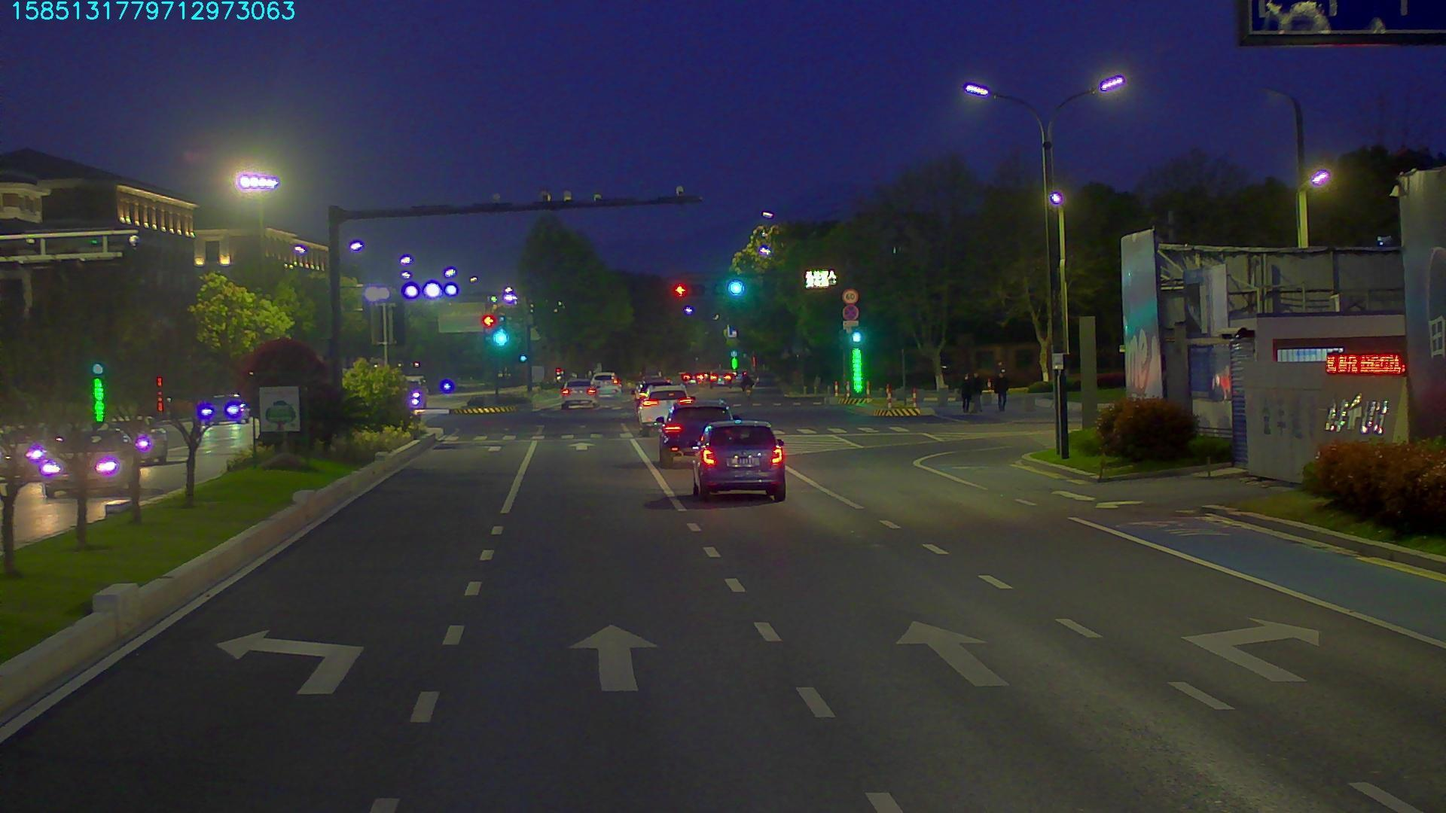green: (724, 271, 749, 294)
red: (673, 282, 695, 300)
